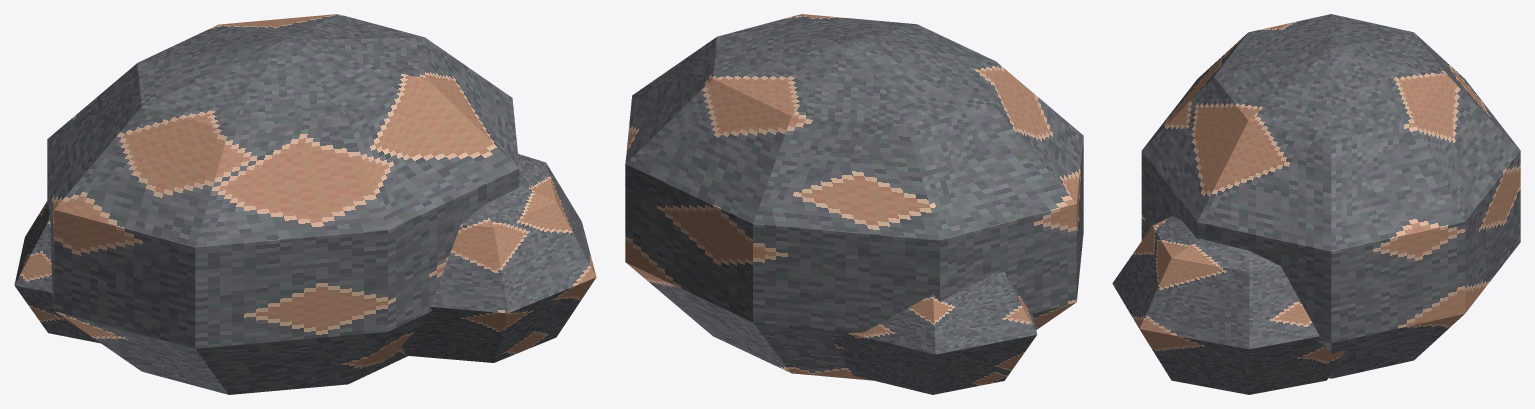
The model's file is minerio_ferro.glb.
3 views of the same model, side by side, from view 1: azimuth 30°, elevation 25°; view 2: azimuth 150°, elevation 25°; view 3: azimuth 270°, elevation 25° (orthographic). The views are drawn at different scales.
Visible parts, largest first — view 1: minerio_ferro; view 2: minerio_ferro; view 3: minerio_ferro.
Part boxes in pixels (<box>): minerio_ferro: <box>14,14,596,394</box>; minerio_ferro: <box>625,14,1083,394</box>; minerio_ferro: <box>1112,14,1520,394</box>.
Size of the model in its own units: 1.1 by 0.7176 by 0.8959.
1 material, 1 textured.
